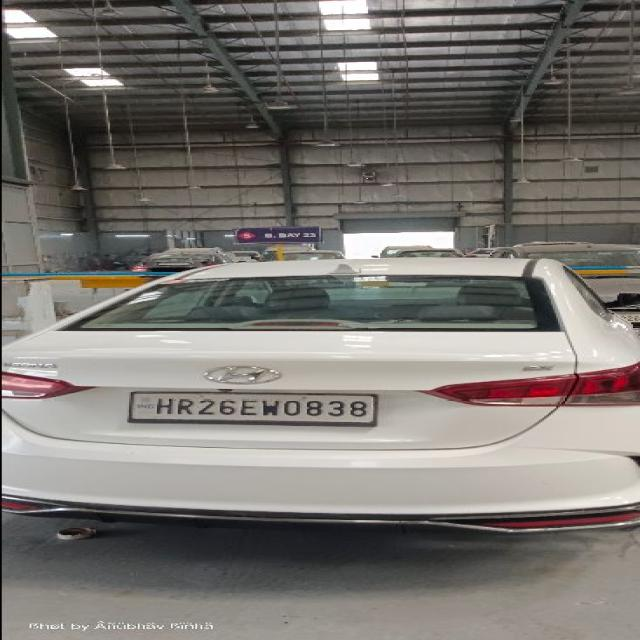license_plate: (125, 390, 378, 426)
